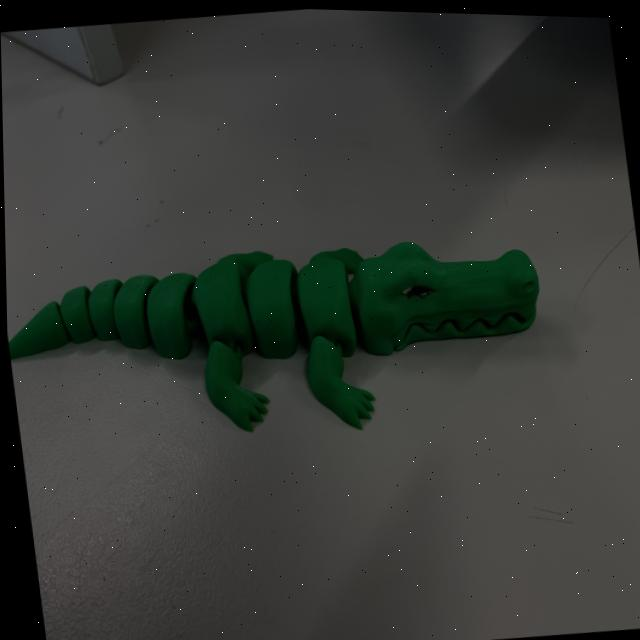crocodile: (4, 187, 558, 476)
